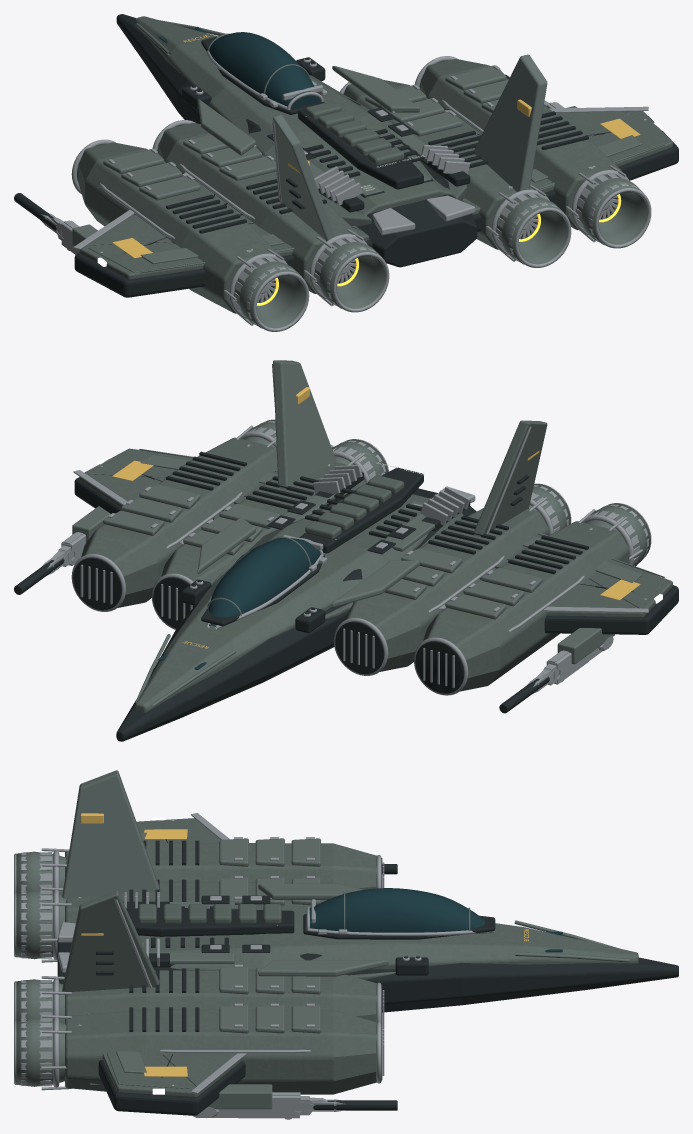
The model's file is tempest.glb.
3 views of the same model, one above another, from view 1: azimuth 30°, elevation 25°; view 2: azimuth 150°, elevation 25°; view 3: azimuth 270°, elevation 25° (orthographic).
Parts seen in each view (by area): view 1: 主装甲_陶瓷金属涂层, 次级装甲_深色钢, 碳化结构与接缝, 拉丝钛合金, 镀膜座舱玻璃, 识别色, 热喷口; view 2: 主装甲_陶瓷金属涂层, 碳化结构与接缝, 次级装甲_深色钢, 拉丝钛合金, 镀膜座舱玻璃, 识别色; view 3: 主装甲_陶瓷金属涂层, 次级装甲_深色钢, 碳化结构与接缝, 拉丝钛合金, 镀膜座舱玻璃, 识别色.
Boxes of the visible parts, x1,y1,x2,y2 form: 主装甲_陶瓷金属涂层: (78,16,672,313); 次级装甲_深色钢: (72,20,664,328); 碳化结构与接缝: (14,14,678,302); 拉丝钛合金: (40,50,651,331); 镀膜座舱玻璃: (158,26,320,109); 识别色: (112,35,640,258); 热喷口: (256,194,621,305); 主装甲_陶瓷金属涂层: (79,437,672,712); 碳化结构与接缝: (14,451,678,741); 次级装甲_深色钢: (72,360,664,707); 拉丝钛合金: (41,364,651,695); 镀膜座舱玻璃: (158,538,320,669); 识别色: (112,387,640,648); 主装甲_陶瓷金属涂层: (65,818,638,1097); 次级装甲_深色钢: (16,770,629,1109); 碳化结构与接缝: (57,839,678,1115); 拉丝钛合金: (14,813,494,1119); 镀膜座舱玻璃: (309,888,562,952); 识别色: (80,813,528,1076).
Bounding box in the file's own units: 8.29 × 2.34 × 8.32.
9 materials, 1 textured.
